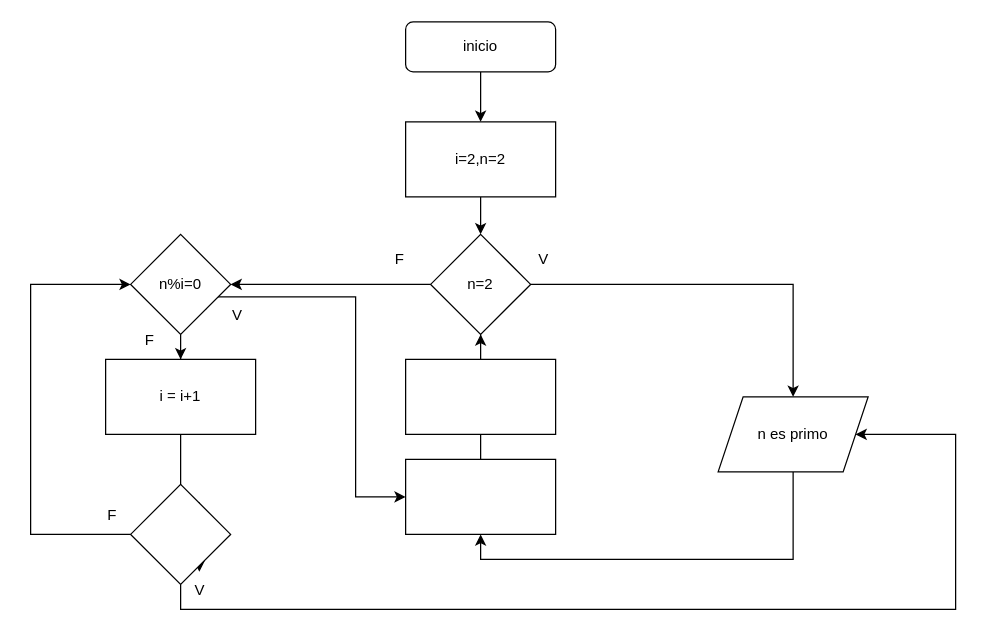
Image size: 988x641. Some labels were removed from this diagram. The shapes that lost their labels are listed below. From the top down, each one's centre as x and y in pixels, then its label:
At (x=480, y=396): "i = 2".
At (x=480, y=496): "n = n+1".
At (x=180, y=533): "i = n-1".
